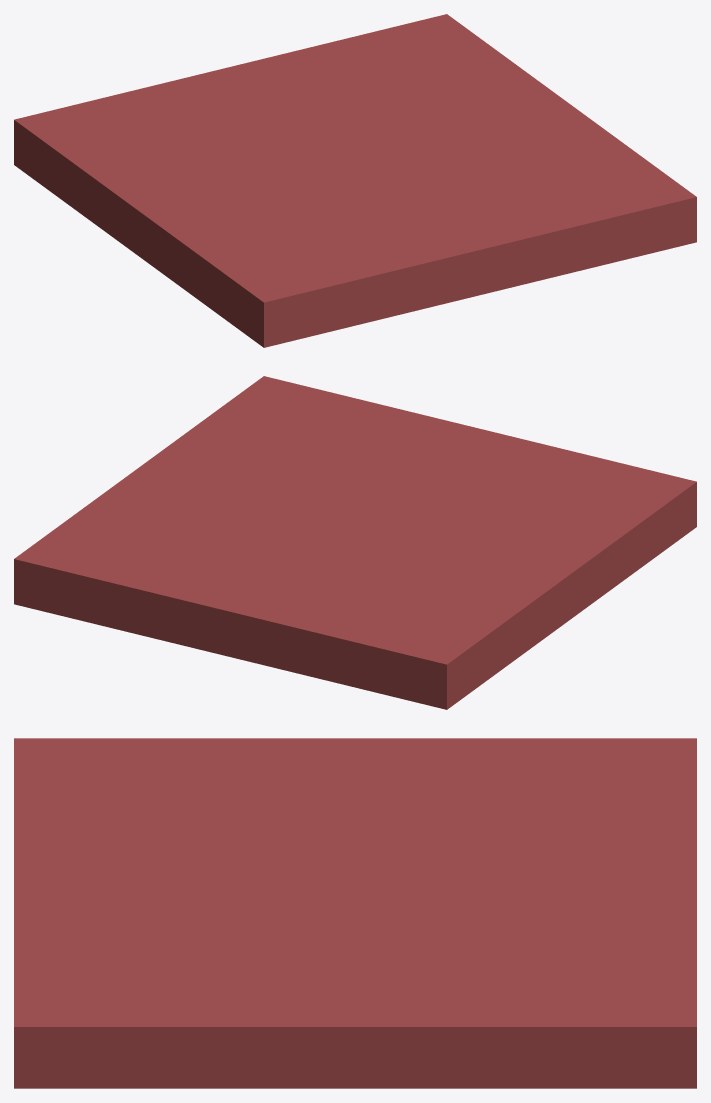
3 views of the same model, one above another, from view 1: azimuth 30°, elevation 25°; view 2: azimuth 150°, elevation 25°; view 3: azimuth 270°, elevation 25° (orthographic). The views are drawn at different scales.
Visible parts, largest first — view 1: pCube1; view 2: pCube1; view 3: pCube1.
Part boxes in pixels (x1=…): pCube1: x1=14, y1=14, x2=696, y2=347; pCube1: x1=14, y1=376, x2=696, y2=709; pCube1: x1=14, y1=738, x2=696, y2=1088.
Bounding box in the file's own units: 100 × 10 × 100.
